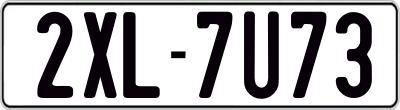2: (34, 11, 76, 100)
3: (333, 10, 372, 101)
7: (288, 9, 326, 101), (194, 11, 229, 98)
L: (121, 9, 163, 98)
U: (244, 8, 285, 102)
X: (84, 9, 119, 100)
